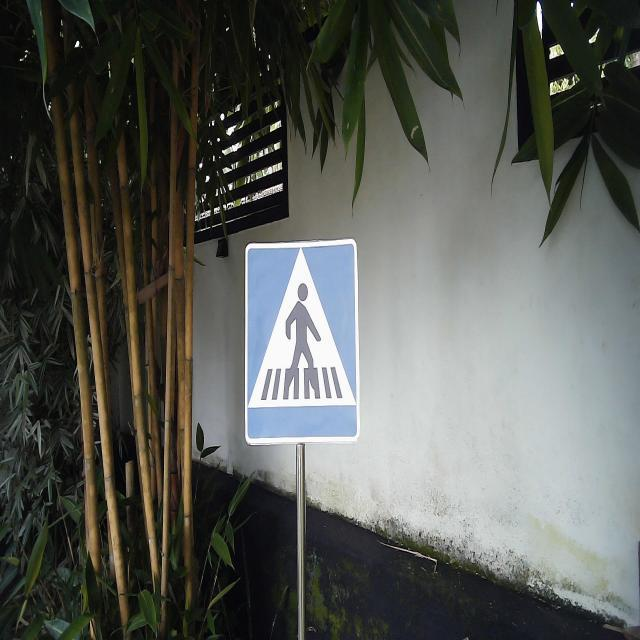crosswalk_sign: (242, 236, 362, 448)
